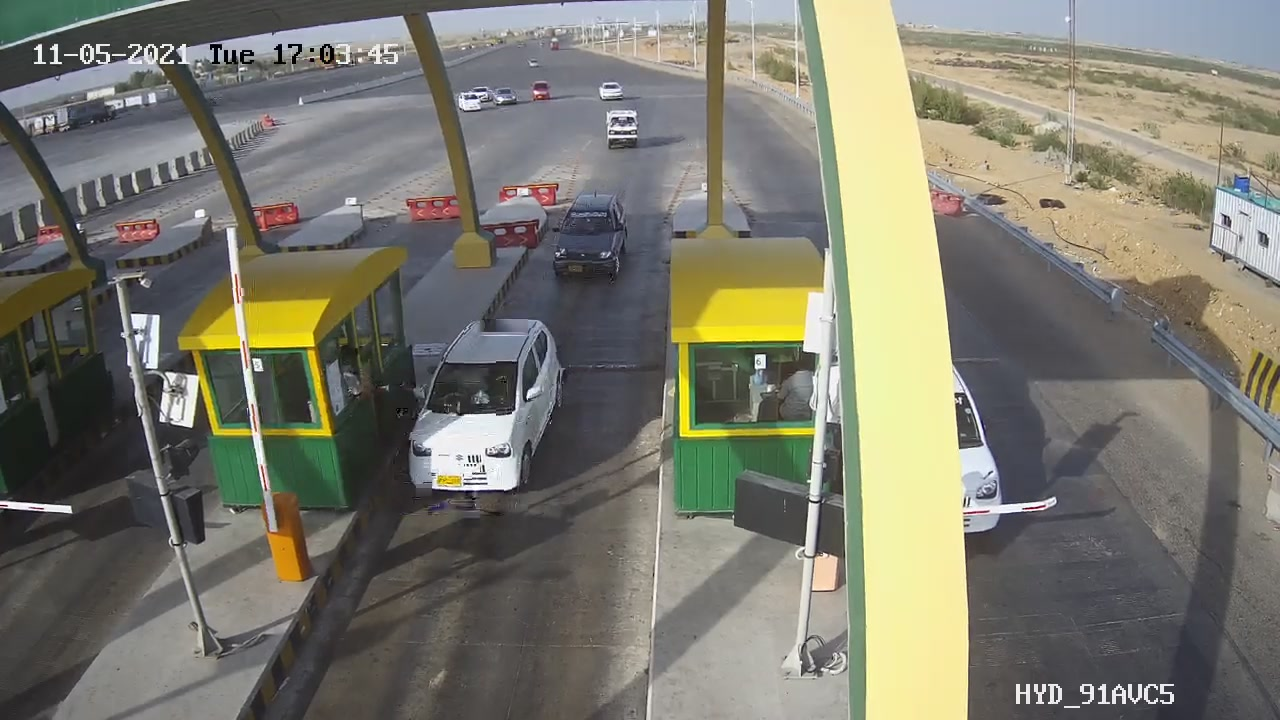F1: (539, 179, 646, 292)
